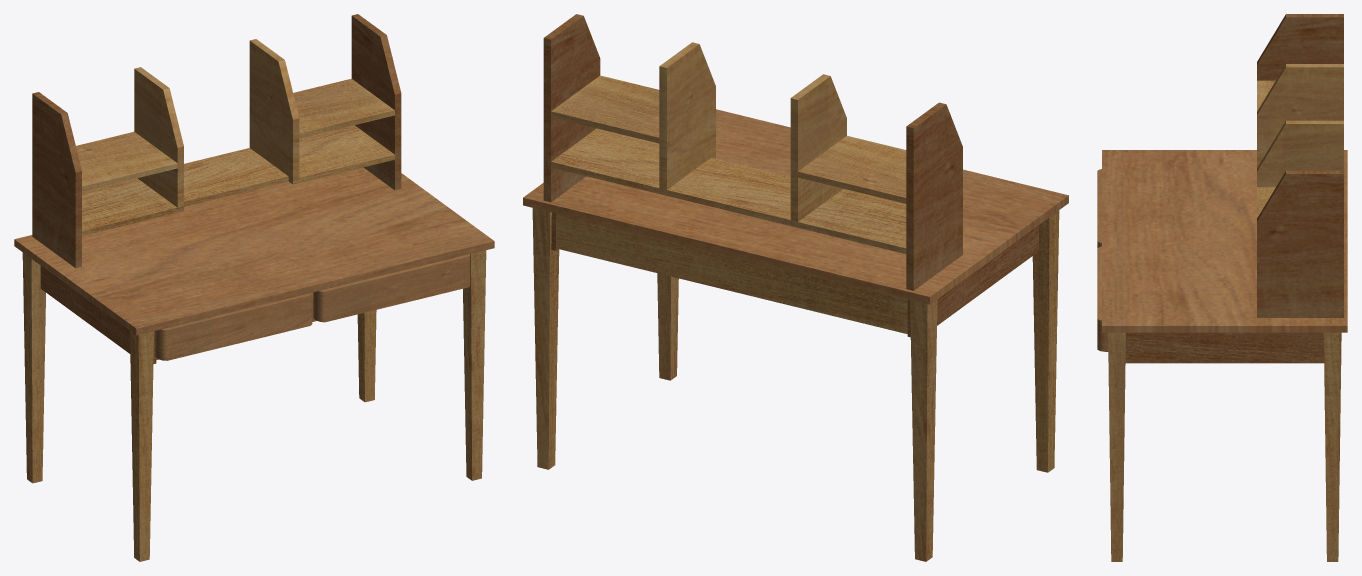
Rendered from Desk.fbx.
3 views of the same model, side by side, from view 1: azimuth 30°, elevation 25°; view 2: azimuth 150°, elevation 25°; view 3: azimuth 270°, elevation 25° (orthographic). The views are drawn at different scales.
Visible parts, largest first — view 1: Desk_Main, Desk_Drawer_l, Desk_Drawer_r; view 2: Desk_Main; view 3: Desk_Main, Desk_Drawer_l, Desk_Drawer_r.
Boxes of the visible parts, x1,y1,x2,y2 form: Desk_Main: (14,14,494,561); Desk_Drawer_l: (313,254,470,322); Desk_Drawer_r: (155,293,312,360); Desk_Main: (523,14,1068,561); Desk_Main: (1102,14,1347,561); Desk_Drawer_l: (1097,246,1108,351); Desk_Drawer_r: (1097,169,1101,247).
Bounding box in the file's own units: 110 × 112 × 66.24.
